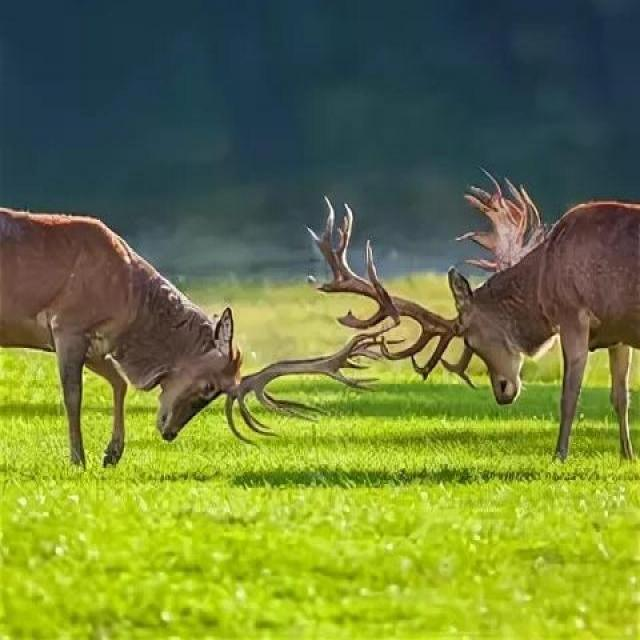deer: (0, 151, 327, 510), (343, 171, 640, 472)
